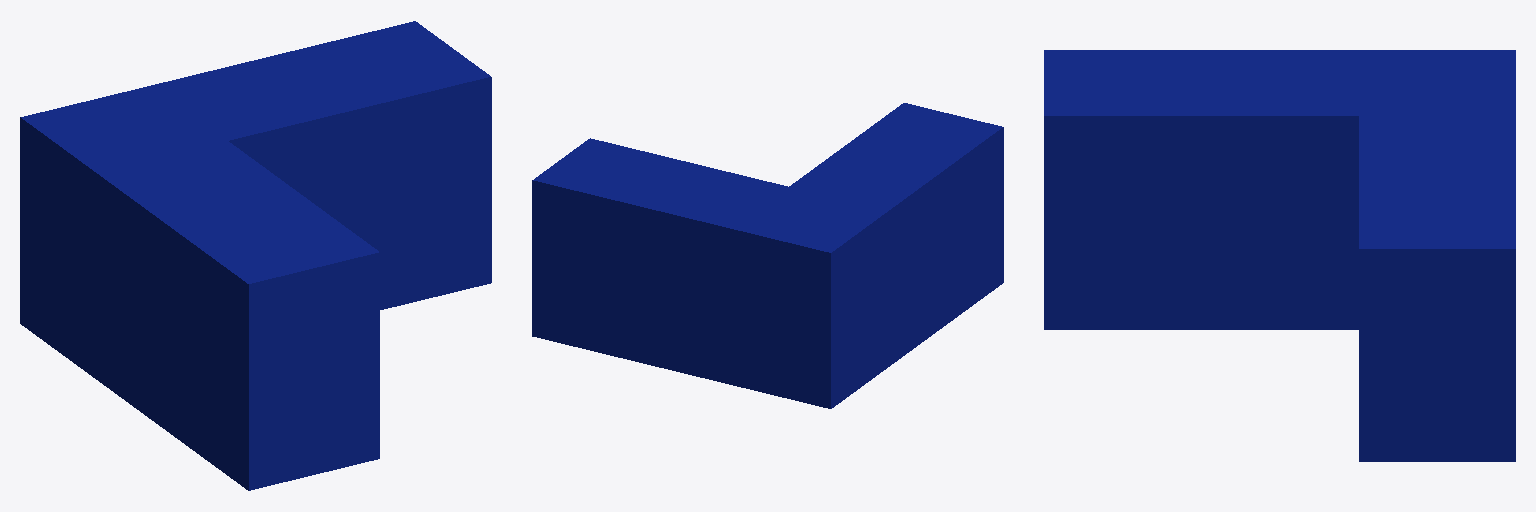
robot.urdf — block:
<robot name="block">
  <link name="block_base_link">
    <inertial>
      <origin rpy="0 0 0" xyz="-0.058 -0.022 0.015"/>
      <mass value="0.05"/>
      <inertia ixx="2.186e-05" ixy="8.64e-06" ixz="0.0" iyy="2.186e-05" iyz="0.0" izz="3.472e-05"/>
    </inertial>
    <collision>
      
      <geometry>
        <mesh filename="9.STL" scale="1 1 1"/>
      </geometry>
    </collision>
    <visual>
 
      <geometry>
        <mesh filename="9.STL" scale="1 1 1"/>
      </geometry>
      <material name="tray_material">
        <color rgba="0.1 0.2 0.6 1"/>
      </material>
    </visual>
  </link>
</robot>

--- Render facts (derived) ---
The picture shows the robot from 3 angles, left to right: view 1: azimuth 30°, elevation 25°; view 2: azimuth 150°, elevation 25°; view 3: azimuth 270°, elevation 25°; orthographic projection.
Robot: block — 1 links, 0 joints (none); root link block_base_link; default pose: all joints at 0.
Visible links, largest first — view 1: block_base_link; view 2: block_base_link; view 3: block_base_link.
Link boxes in pixels (box(x1,y1,x2,y2)): block_base_link: box(20, 21, 491, 490); block_base_link: box(532, 103, 1003, 408); block_base_link: box(1044, 50, 1515, 461).
Size in the robot's own frame: 0.06 by 0.06 by 0.03 metres.
1 mesh visuals loaded from 1 distinct referenced files (1 binary STL).